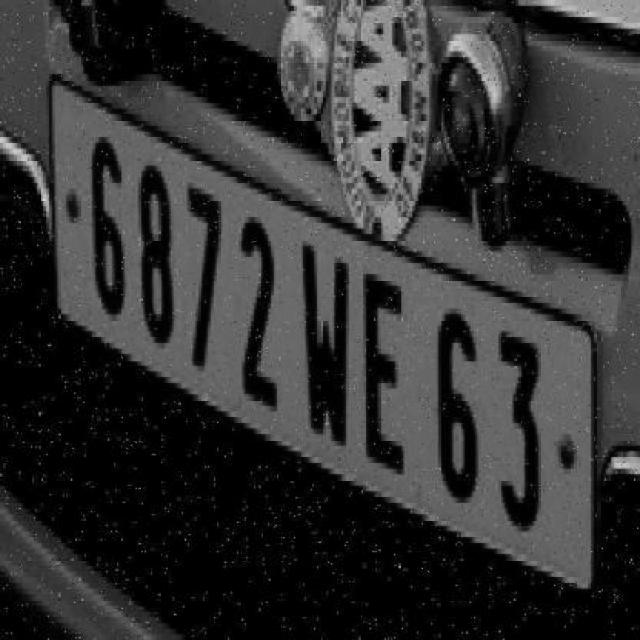licenseplate: (46, 64, 602, 595)
